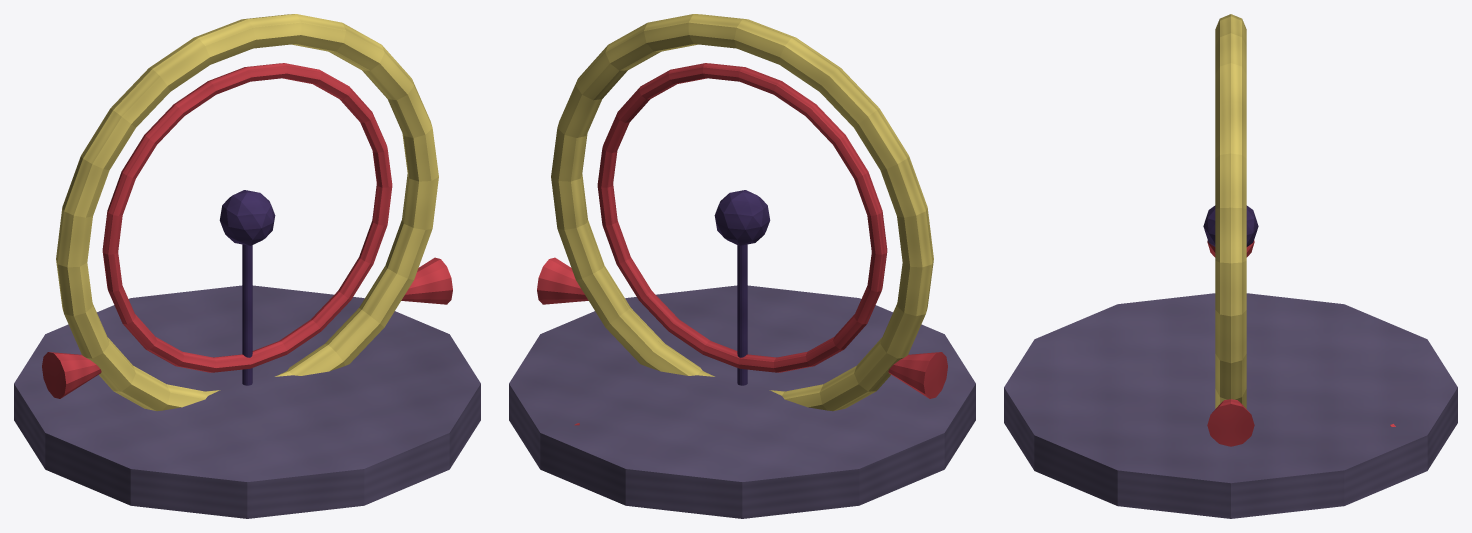
The model's file is gate-zenith.glb.
3 renders of one model, left to right at view 1: azimuth 30°, elevation 25°; view 2: azimuth 150°, elevation 25°; view 3: azimuth 270°, elevation 25°, orthographic. The views are drawn at different scales.
Parts seen in each view (by area): view 1: zenith-dais, zenith-gate-ring-outer, zenith-gate-ring-inner, zenith-echo-deep-core, zenith-sigil-spike-0, zenith-sigil-spike-1, zenith-core-pillar; view 2: zenith-dais, zenith-gate-ring-outer, zenith-gate-ring-inner, zenith-echo-deep-core, zenith-sigil-spike-0, zenith-sigil-spike-1, zenith-core-pillar; view 3: zenith-dais, zenith-gate-ring-outer, zenith-sigil-spike-1, zenith-echo-deep-core.
Boxes of the visible parts, x1,y1,x2,y2 form: zenith-dais: (14,285,480,518); zenith-gate-ring-outer: (56,14,438,411); zenith-gate-ring-inner: (102,63,392,372); zenith-echo-deep-core: (219,190,275,245); zenith-sigil-spike-0: (42,352,101,398); zenith-sigil-spike-1: (401,257,452,304); zenith-core-pillar: (242,244,252,385); zenith-dais: (509,285,975,518); zenith-gate-ring-outer: (551,14,933,411); zenith-gate-ring-inner: (597,63,887,372); zenith-echo-deep-core: (714,190,770,245); zenith-sigil-spike-0: (888,352,947,398); zenith-sigil-spike-1: (537,257,588,304); zenith-core-pillar: (737,244,747,385); zenith-dais: (1004,293,1457,518); zenith-gate-ring-outer: (1215,14,1246,408); zenith-sigil-spike-1: (1207,399,1254,446); zenith-echo-deep-core: (1203,205,1258,246).
Bounding box in the file's own units: 2.3 × 2.18 × 2.3.
Materials: 8 (8 with a texture image).
